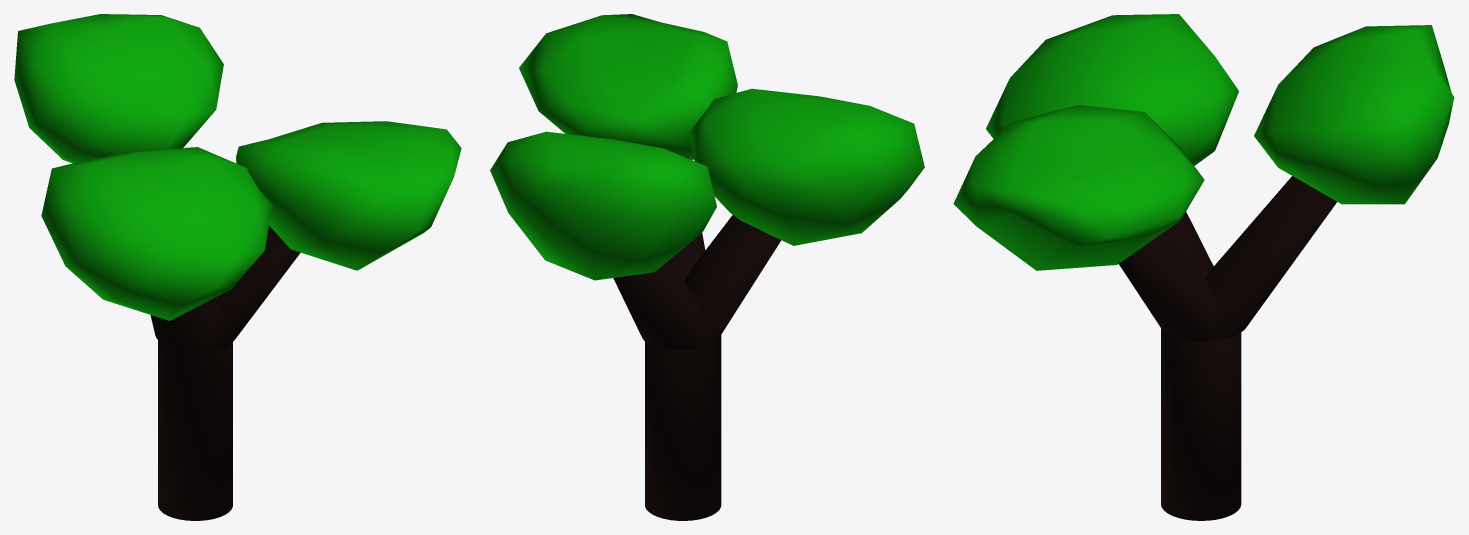
File: arvore2.obj
The picture shows the model from 3 angles, left to right: view 1: azimuth 30°, elevation 25°; view 2: azimuth 150°, elevation 25°; view 3: azimuth 270°, elevation 25°; orthographic projection. The views are drawn at different scales.
Parts seen in each view (by area): view 1: Cylinder; view 2: Cylinder; view 3: Cylinder.
Boxes of the visible parts, bbox=[...] form: Cylinder: bbox=[14, 14, 461, 520]; Cylinder: bbox=[490, 14, 924, 520]; Cylinder: bbox=[953, 14, 1454, 520].
Size of the model in its own units: 4.71 by 4.97 by 5.02.
